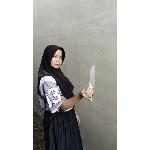Pisau: (86, 62, 97, 104)
